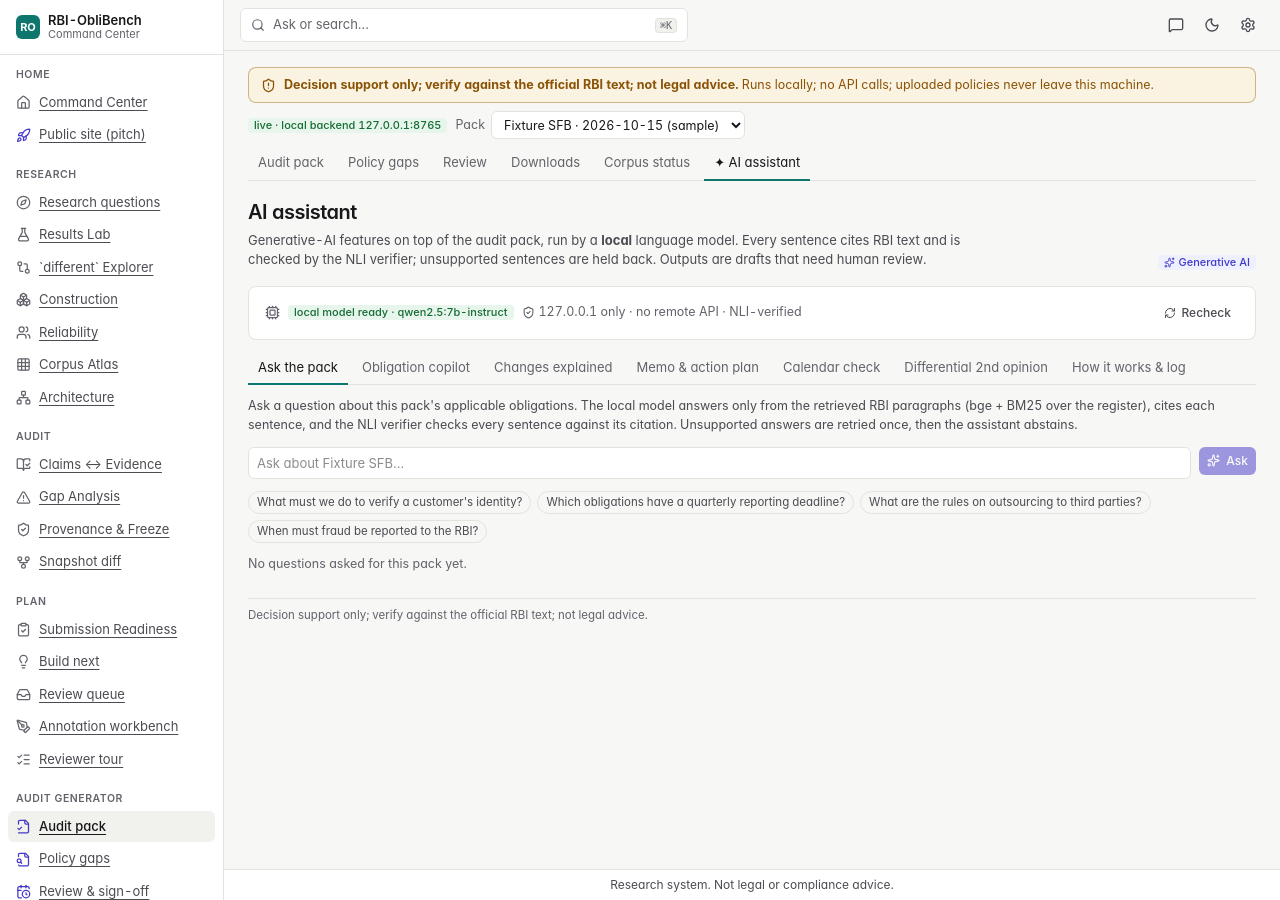
Test: AI assistant tab › asks the local backend in live mode and shows the cited answer
Check: the text "local model ready · qwen2.5:7b-instruct" is shown, box [288,305,514,320]
Type "When must fraud be reported?" into the field named "Question". click: (720, 463)
box: [248,447,1191,479]
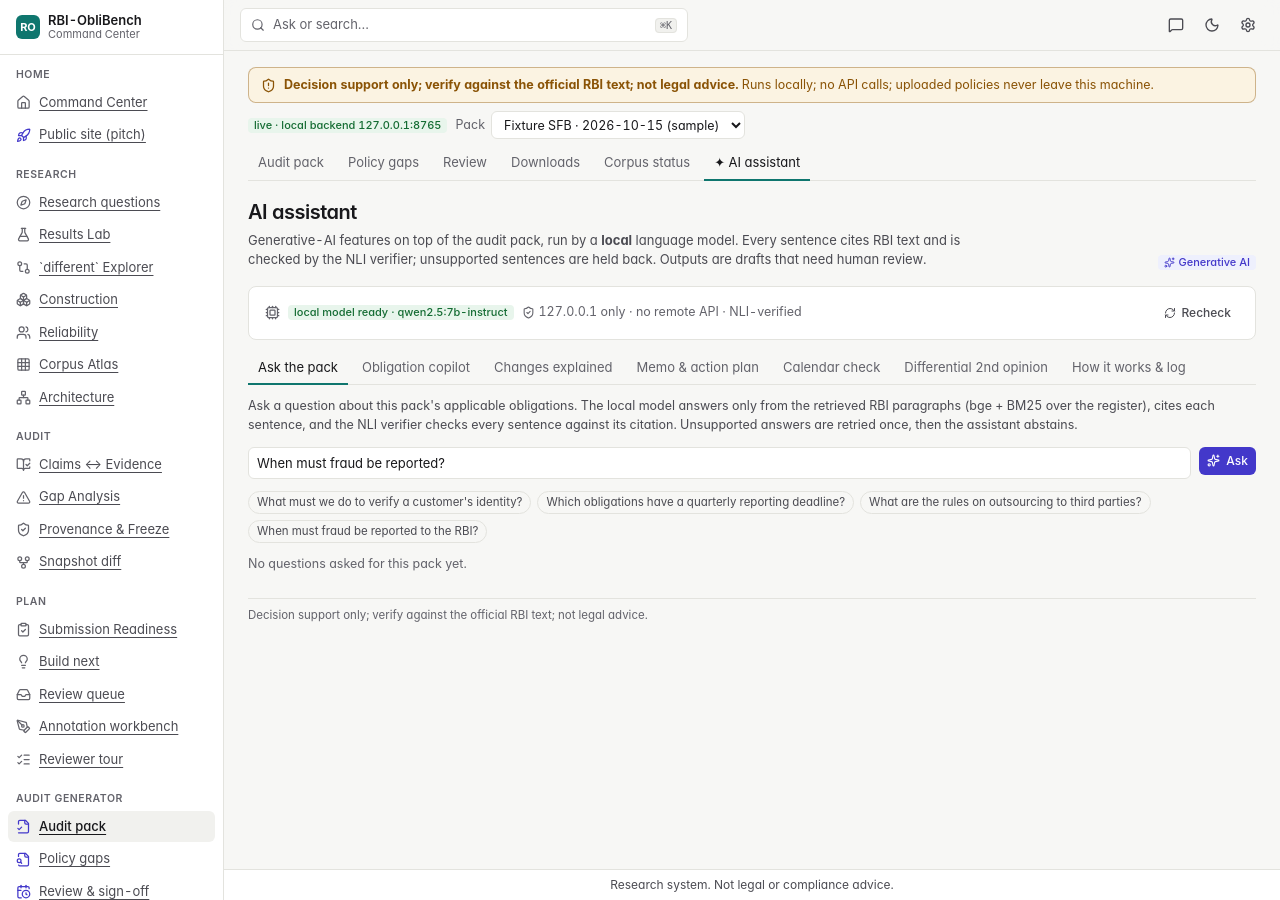
Check: the button "Ask" is enabled
Click the button "Ask". click: (1228, 461)
box: [1199,447,1256,475]
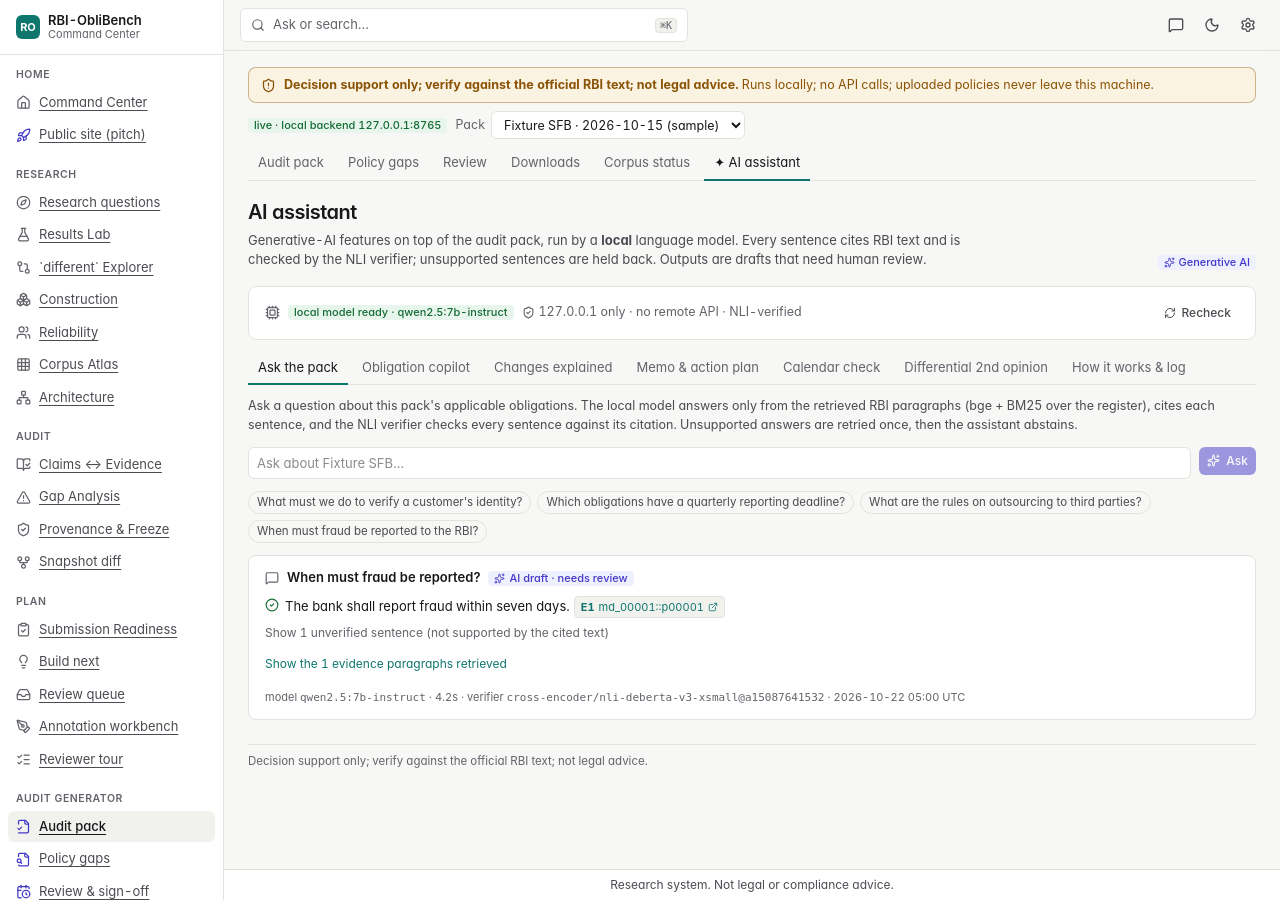
Check: the text "When must fraud be reported?" is shown, box [287,568,480,588]
